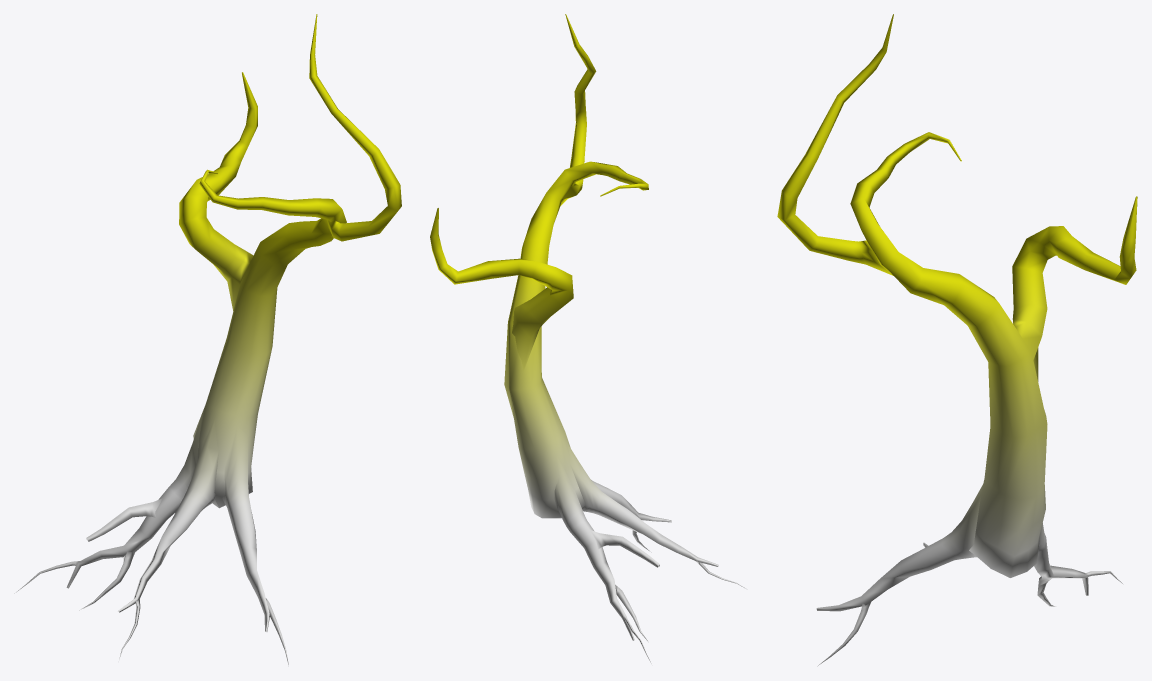
Rendered from Deadtree5.fbx.
3 views of the same model, side by side, from view 1: azimuth 30°, elevation 25°; view 2: azimuth 150°, elevation 25°; view 3: azimuth 270°, elevation 25° (orthographic). The views are drawn at different scales.
Visible parts, largest first — view 1: Deadtree5_LOD0; view 2: Deadtree5_LOD0; view 3: Deadtree5_LOD0.
Part boxes in pixels (x1,y1,x2,y2): Deadtree5_LOD0: [14, 14, 401, 664]; Deadtree5_LOD0: [430, 14, 745, 663]; Deadtree5_LOD0: [777, 14, 1137, 666].
Size of what is drawn, in the model's own units: 304 by 718 by 341.
